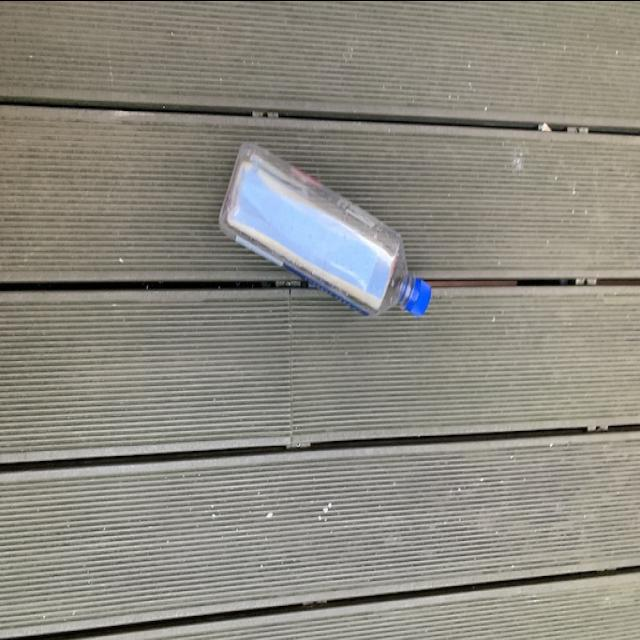PET: (218, 140, 442, 318)
